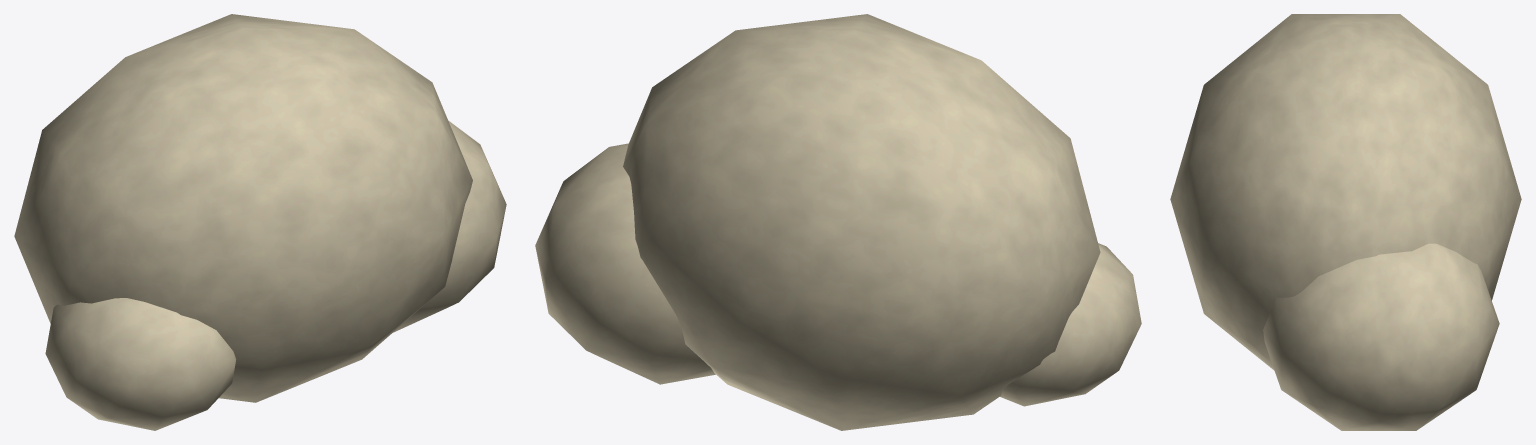
The model's file is prop_rock.glb.
3 views of the same model, side by side, from view 1: azimuth 30°, elevation 25°; view 2: azimuth 150°, elevation 25°; view 3: azimuth 270°, elevation 25° (orthographic). The views are drawn at different scales.
Visible parts, largest first — view 1: prop_rock; view 2: prop_rock; view 3: prop_rock.
Part boxes in pixels (<box>): prop_rock: <box>14,14,506,430</box>; prop_rock: <box>535,14,1141,430</box>; prop_rock: <box>1170,14,1521,430</box>.
Size of the model in its own units: 0.9504 by 0.68 by 0.64.
1 material, 1 textured.
